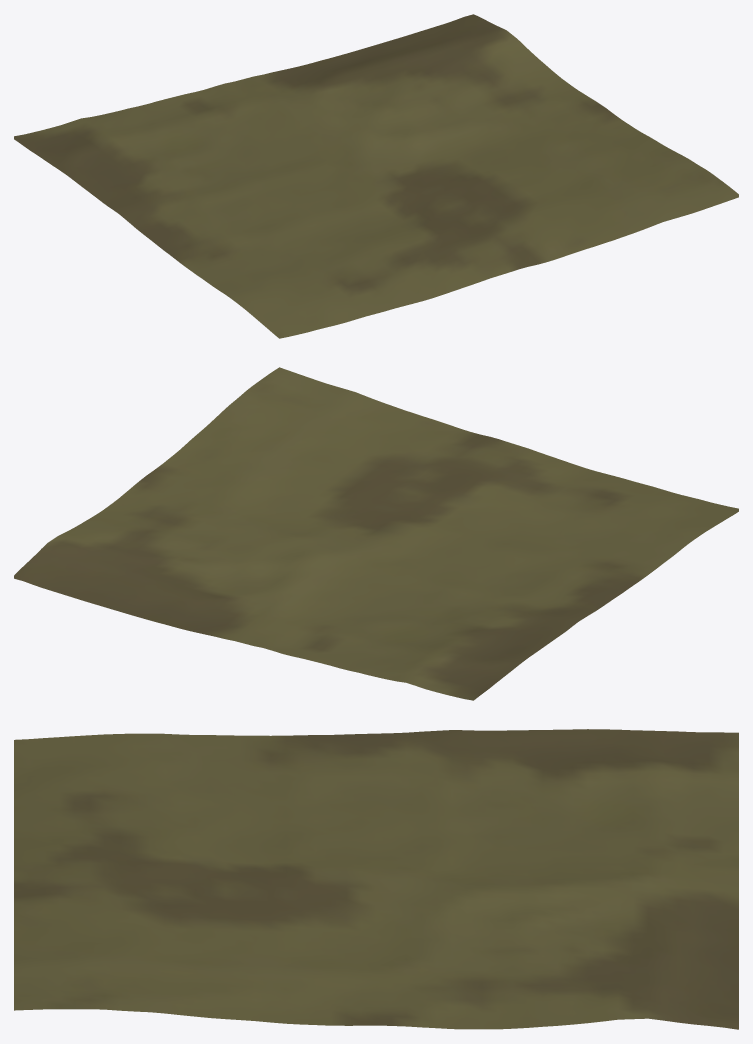
The model's file is land_m_08_01.glb.
The picture shows the model from 3 angles, top to bottom: view 1: azimuth 30°, elevation 25°; view 2: azimuth 150°, elevation 25°; view 3: azimuth 270°, elevation 25°; orthographic projection. The views are drawn at different scales.
Parts seen in each view (by area): view 1: land_m_08_01; view 2: land_m_08_01; view 3: land_m_08_01.
Part boxes in pixels (x1,y1,x2,y2): land_m_08_01: (14,14,738,338); land_m_08_01: (14,367,738,700); land_m_08_01: (14,729,738,1029).
Bounding box in the file's own units: 960 × 67.49 × 960.
